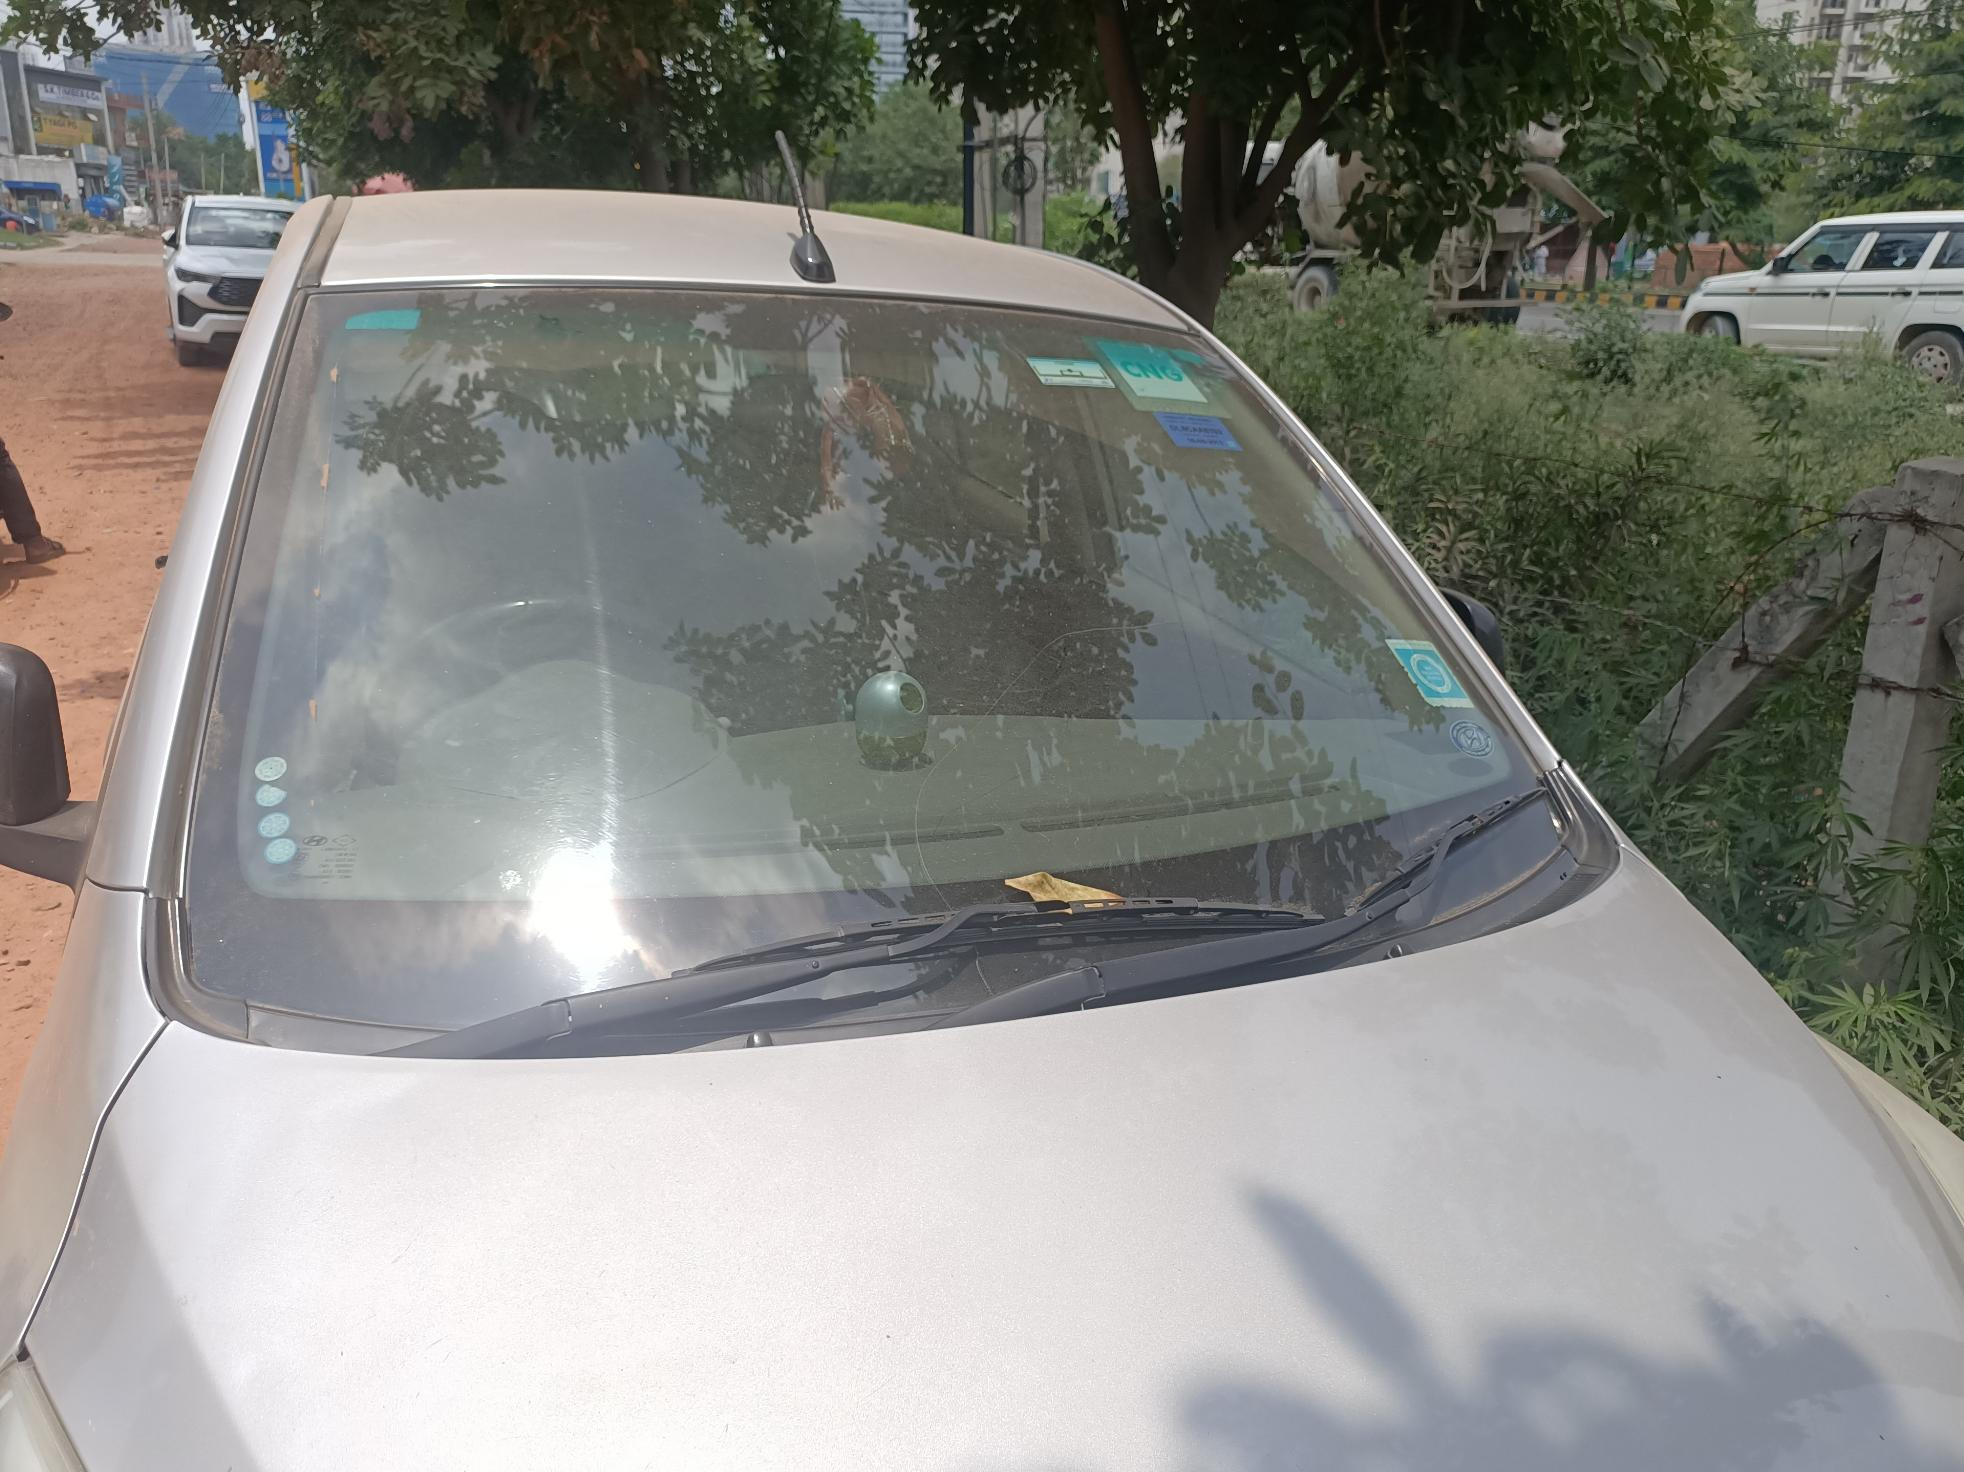FastTag: (1024, 337, 1117, 410)
not a FastTag: (1123, 332, 1245, 422), (1378, 618, 1486, 717), (246, 759, 320, 860)
